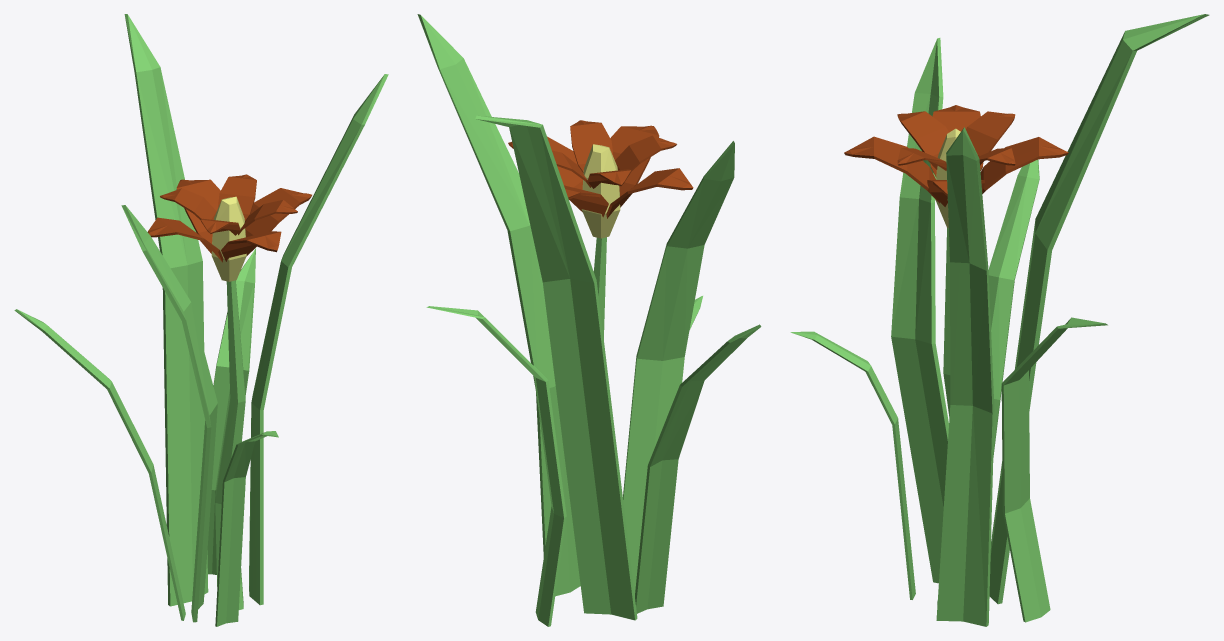
The model's file is tropical_plant_14.glb.
3 renders of one model, left to right at view 1: azimuth 30°, elevation 25°; view 2: azimuth 150°, elevation 25°; view 3: azimuth 270°, elevation 25°, orthographic. The views are drawn at different scales.
Visible parts, largest first — view 1: Tropical_plant_014; view 2: Tropical_plant_014; view 3: Tropical_plant_014.
Boxes of the visible parts, left/top/right/bottom form: Tropical_plant_014: left=14, top=14, right=388, bottom=626; Tropical_plant_014: left=417, top=14, right=761, bottom=626; Tropical_plant_014: left=790, top=14, right=1209, bottom=626.
Size of the model in its own units: 0.9007 by 1.28 by 0.8207.
Materials: 1 (1 with a texture image).
